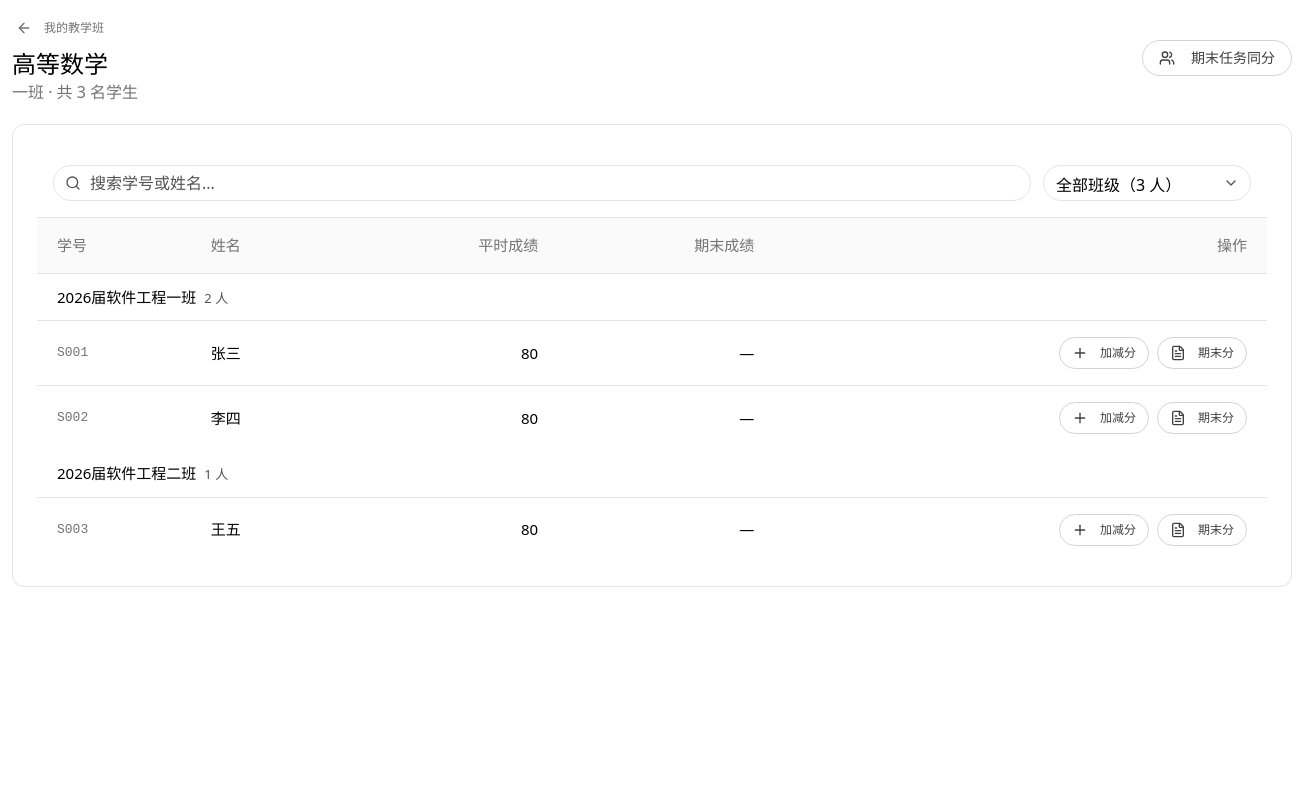
Test: OfferingGrades 成绩录入 › 无匹配时提示空结果，清空后恢复
This screenshot has width=1304, height=812.
Type "不存在的学生" into the field with placeholder "搜索学号或姓名..." at (542, 183), box [53,165,1031,201]
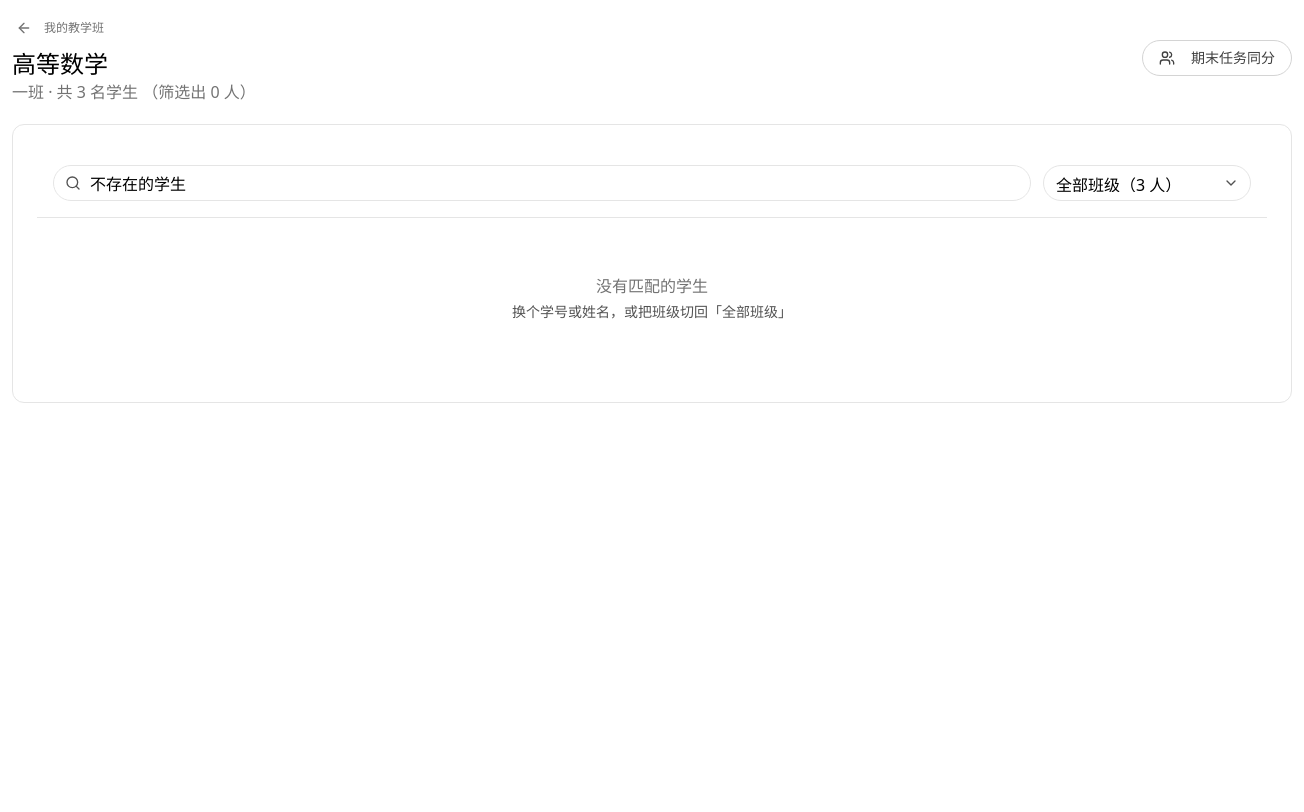
Expected: the text "没有匹配的学生" is shown, [596,274,708,298]
Clear the field with placeholder "搜索学号或姓名..." at (542, 183), box [53,165,1031,201]
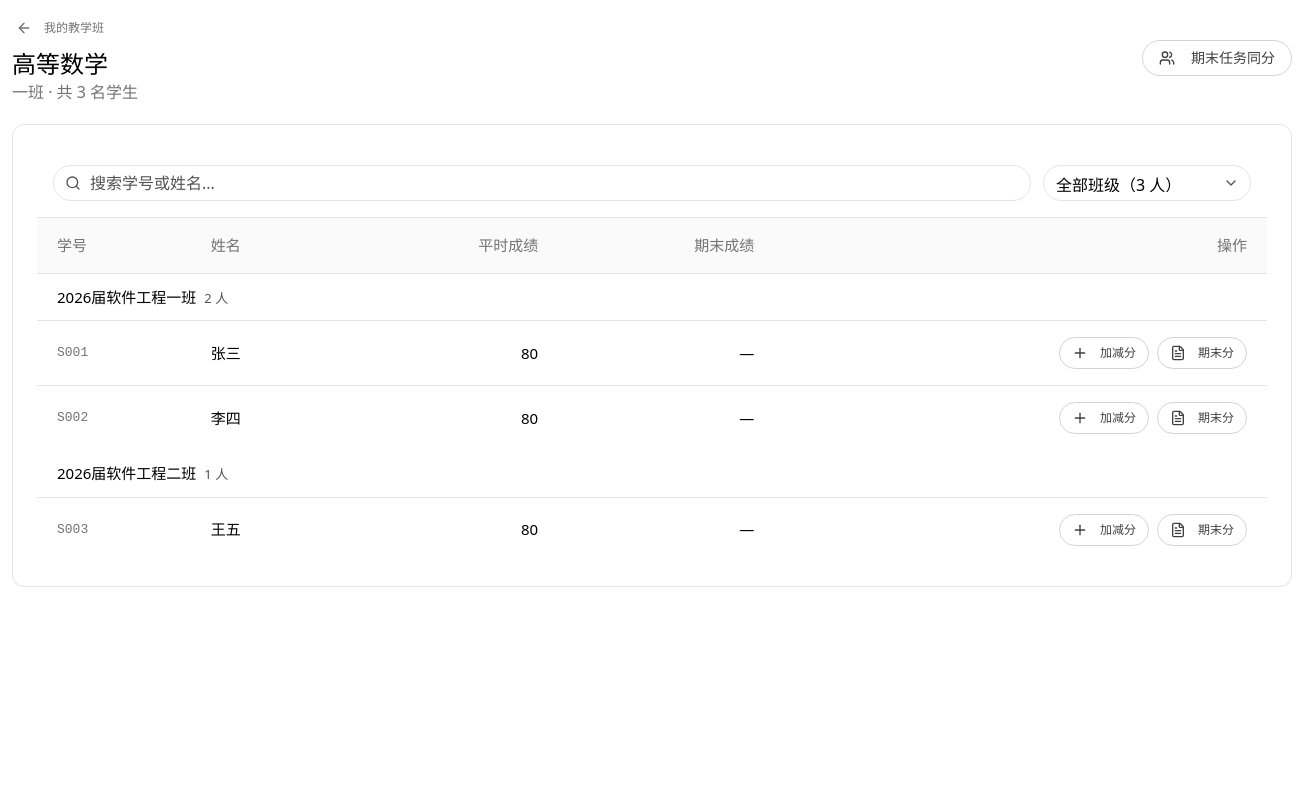
Expected: the text "张三" is shown, [191,320,342,386]
